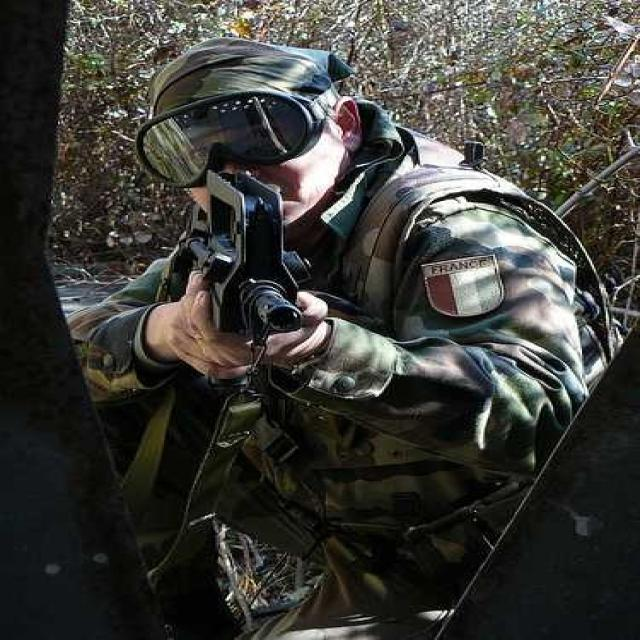heavyweapon: (151, 163, 387, 374)
